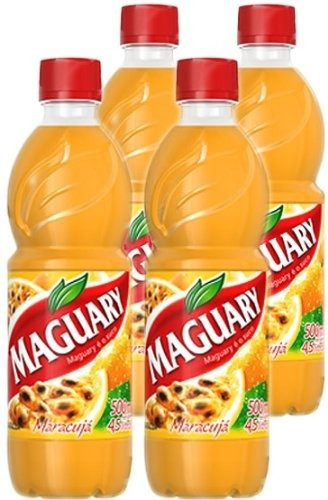maguary: (1, 56, 133, 495)
